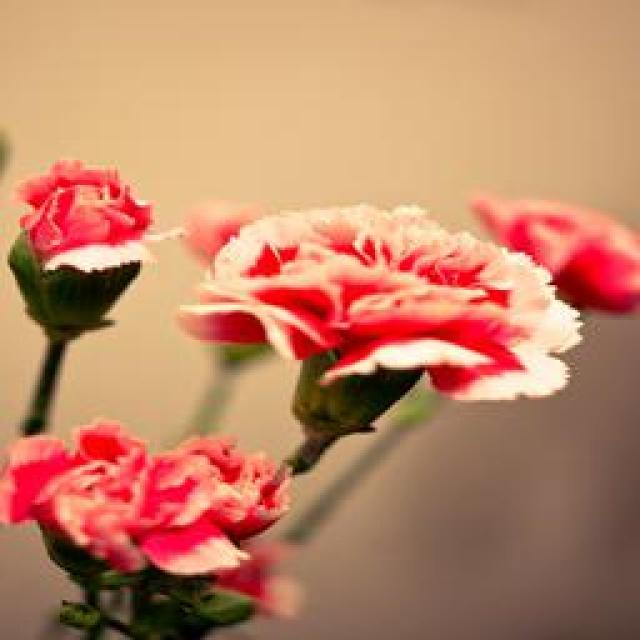carnation: (185, 187, 590, 443)
